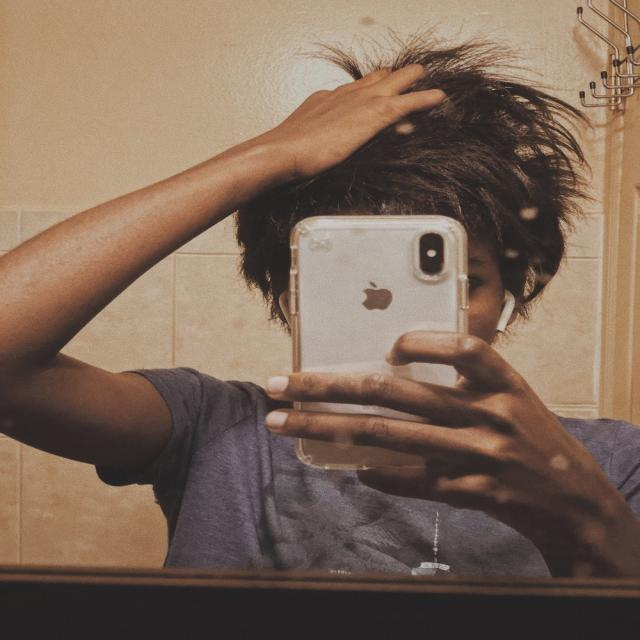phone: (289, 215, 470, 470)
